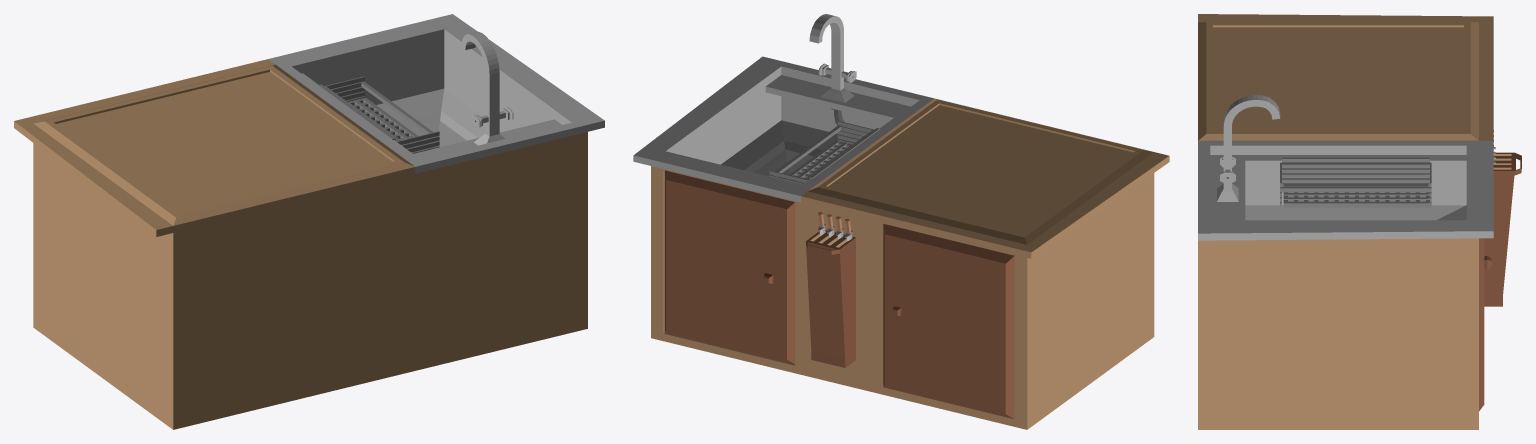
File: Sink Desk.fbx
3 views of the same model, side by side, from view 1: azimuth 30°, elevation 25°; view 2: azimuth 150°, elevation 25°; view 3: azimuth 270°, elevation 25° (orthographic). The views are drawn at different scales.
Parts seen in each view (by area): view 1: Cube.161; view 2: Cube.161, Cube.163, Cube.162, Cube.154; view 3: Cube.161, Cube.162.
Part boxes in pixels (left/top/right/bottom): Cube.161: left=14, top=14, right=604, bottom=429; Cube.161: left=633, top=14, right=1169, bottom=429; Cube.163: left=883, top=224, right=1014, bottom=419; Cube.162: left=664, top=170, right=794, bottom=364; Cube.154: left=818, top=212, right=853, bottom=241; Cube.161: left=1198, top=14, right=1521, bottom=429; Cube.162: left=1479, top=238, right=1491, bottom=411.
Bounding box in the file's own units: 2.31 × 1.44 × 1.44.
